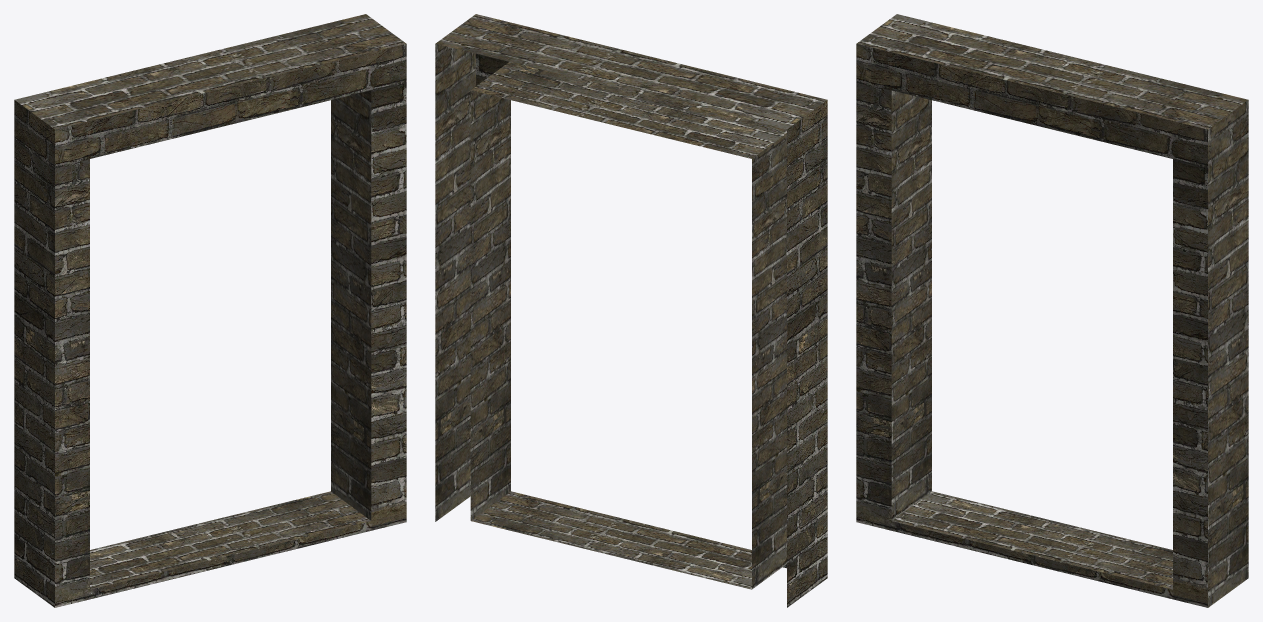
File: courtyard_outside_frame.dae
3 renders of one model, left to right at view 1: azimuth 30°, elevation 25°; view 2: azimuth 150°, elevation 25°; view 3: azimuth 330°, elevation 25°, orthographic.
Parts seen in each view (by area): view 1: polySurface1; view 2: polySurface1; view 3: polySurface1.
Part boxes in pixels (left/top/right/bottom): polySurface1: left=14, top=14, right=406, bottom=607; polySurface1: left=435, top=14, right=827, bottom=607; polySurface1: left=856, top=14, right=1248, bottom=607.
Size of the model in its own units: 2.5 by 3.25 by 0.5.
